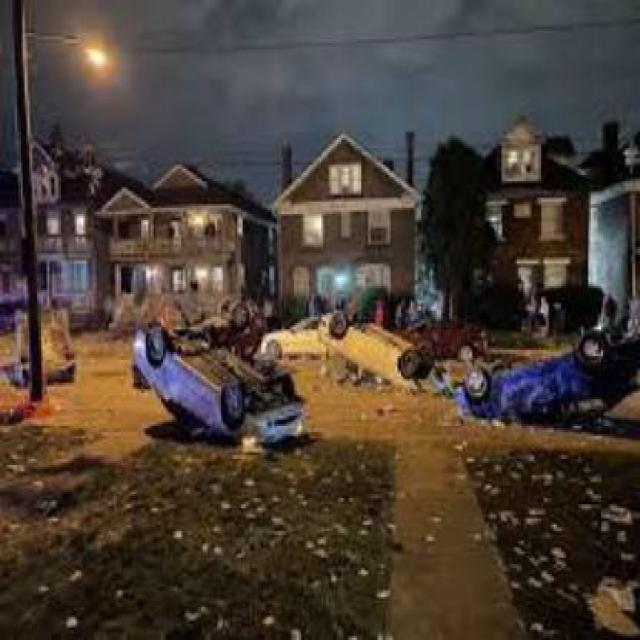accident: (123, 306, 309, 456), (448, 315, 638, 420), (314, 303, 434, 393), (162, 274, 263, 352)
